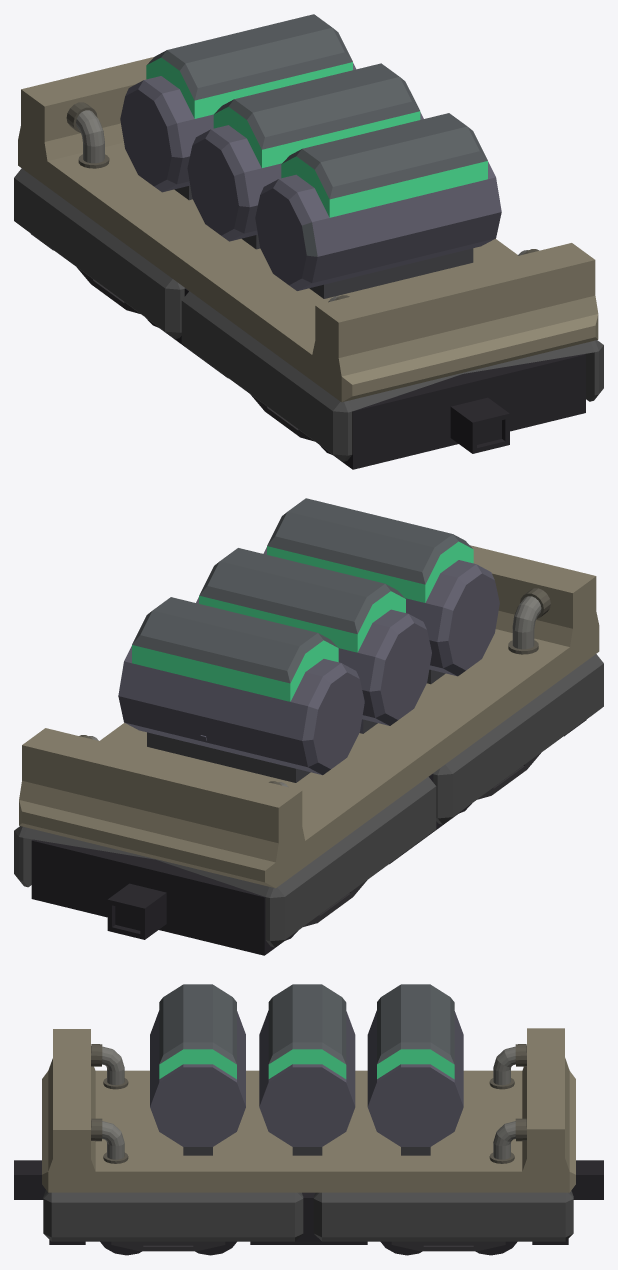
The model's file is mesh_gen_0.fbx.
The picture shows the model from 3 angles, top to bottom: view 1: azimuth 30°, elevation 25°; view 2: azimuth 150°, elevation 25°; view 3: azimuth 270°, elevation 25°; orthographic projection. The views are drawn at different scales.
Parts seen in each view (by area): view 1: gen_0_base, gen_0_com; view 2: gen_0_base, gen_0_com; view 3: gen_0_base, gen_0_com.
Part boxes in pixels (x1,y1,x2,y2): gen_0_base: [14, 57, 603, 469]; gen_0_com: [120, 14, 501, 298]; gen_0_base: [14, 545, 603, 955]; gen_0_com: [118, 498, 499, 782]; gen_0_base: [14, 1028, 603, 1255]; gen_0_com: [150, 984, 463, 1155].
Size of the model in its own units: 3.59 by 3.26 by 8.39.
